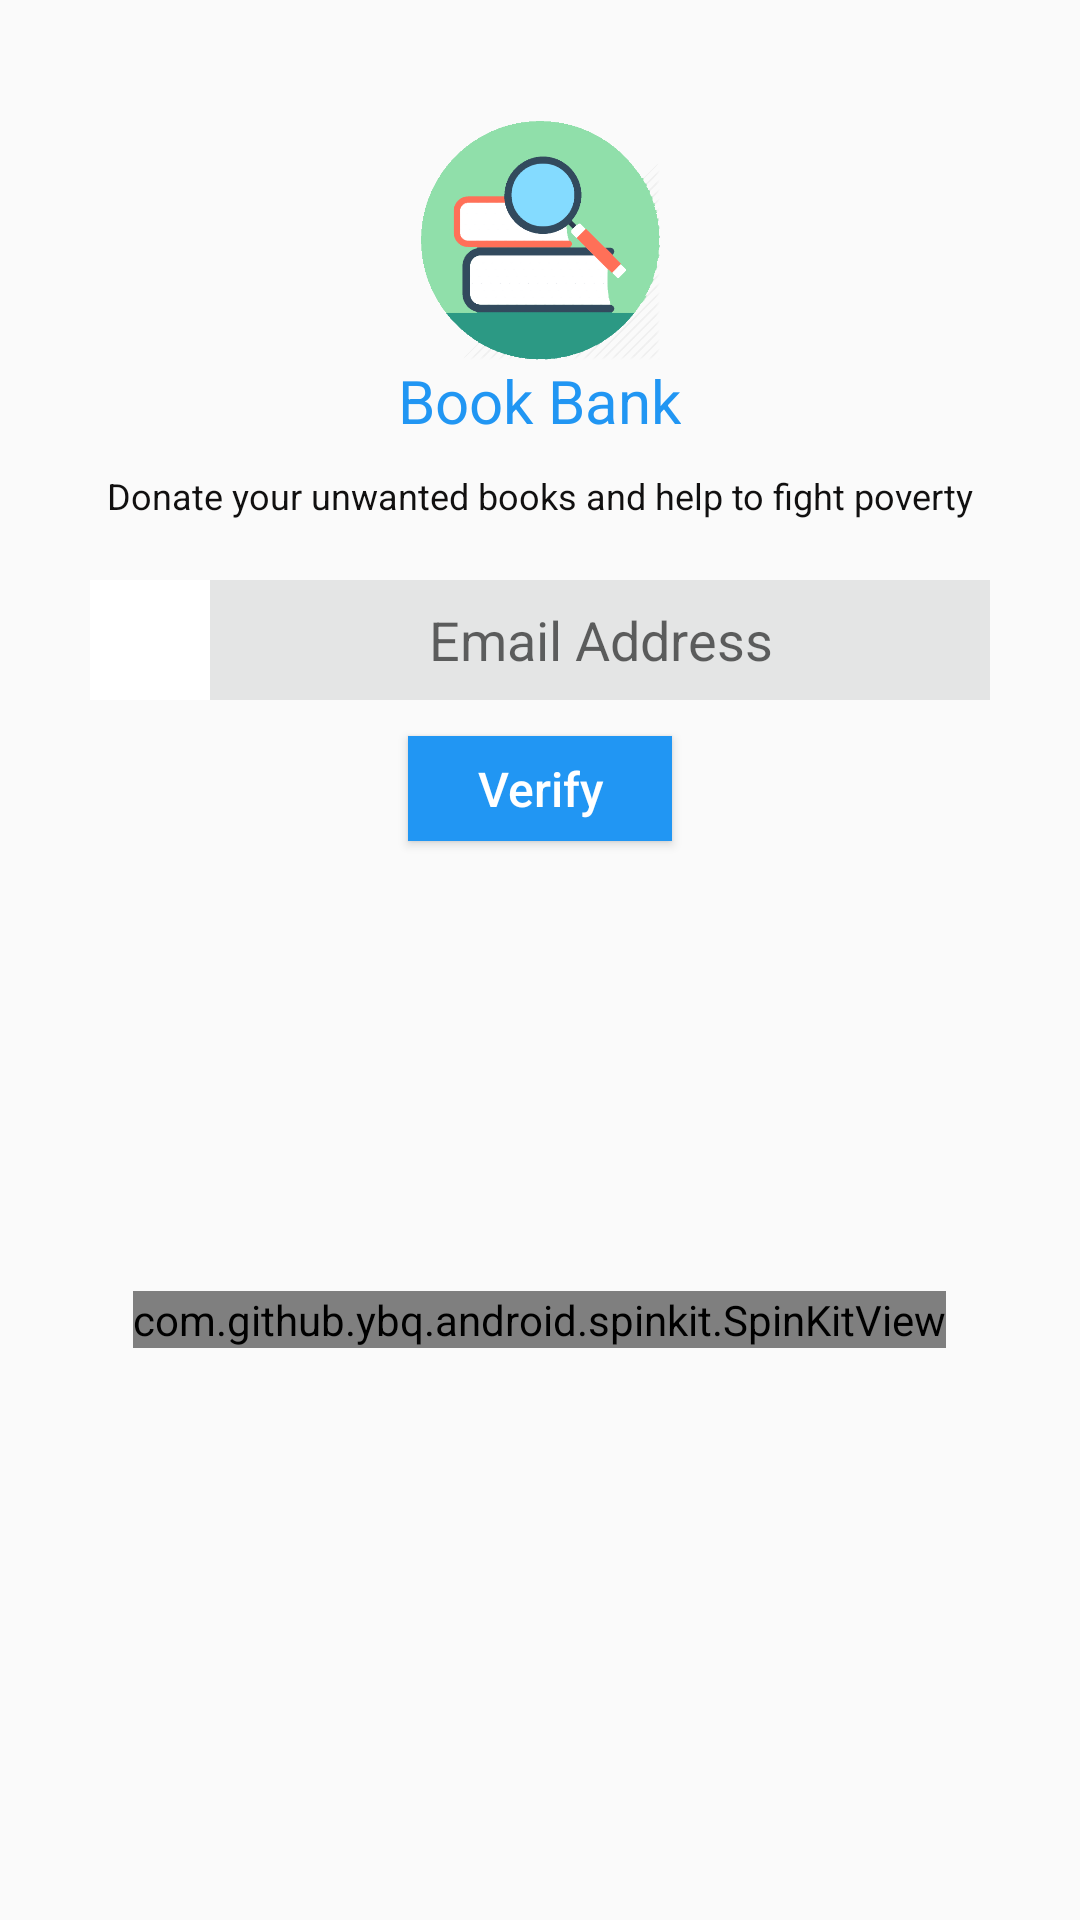

Named icons in this screenshot (1080 × 1920) and their bounding boxes, (x1, y1, x2, y2):
app: (421, 121, 660, 360)
